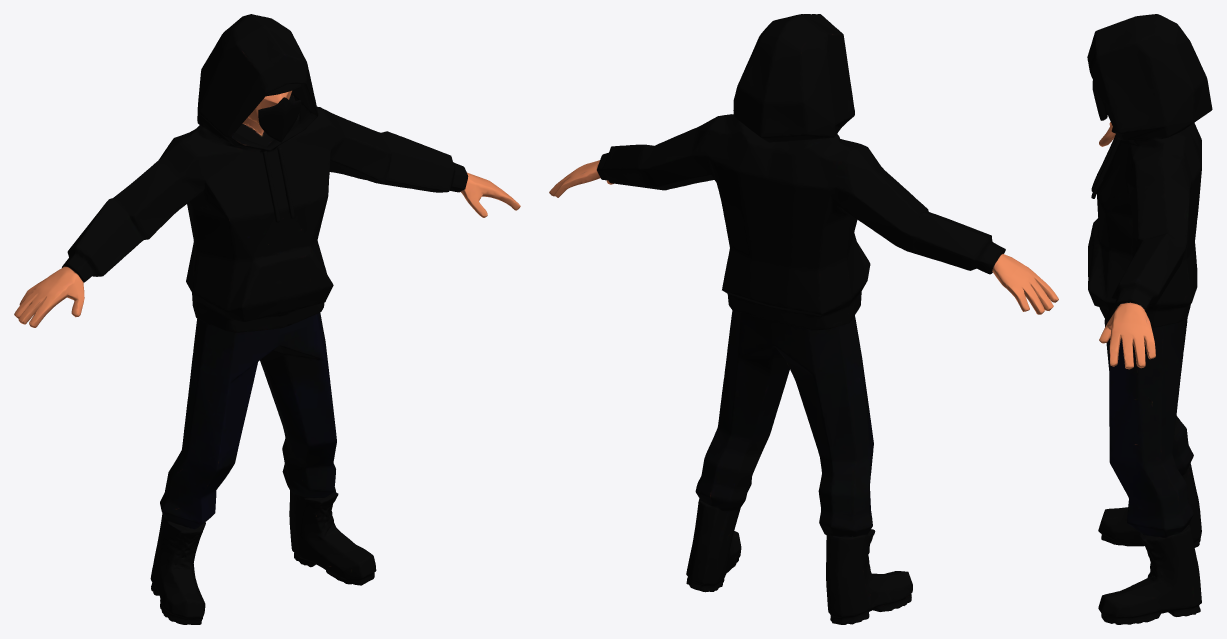
3 renders of one model, left to right at view 1: azimuth 30°, elevation 25°; view 2: azimuth 150°, elevation 25°; view 3: azimuth 270°, elevation 25°, orthographic.
Parts seen in each view (by area): view 1: world; view 2: world; view 3: world.
Boxes of the visible parts, bbox=[...] form: world: bbox=[14, 14, 520, 624]; world: bbox=[549, 14, 1058, 624]; world: bbox=[1087, 14, 1212, 624].
Bounding box in the file's own units: 0.9082 × 1 × 0.201.
1 material, 1 textured.
